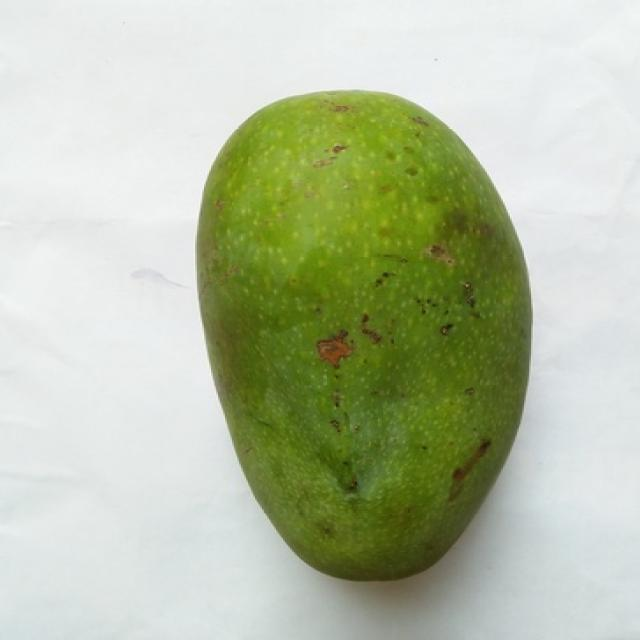Mango: (197, 92, 529, 579)
